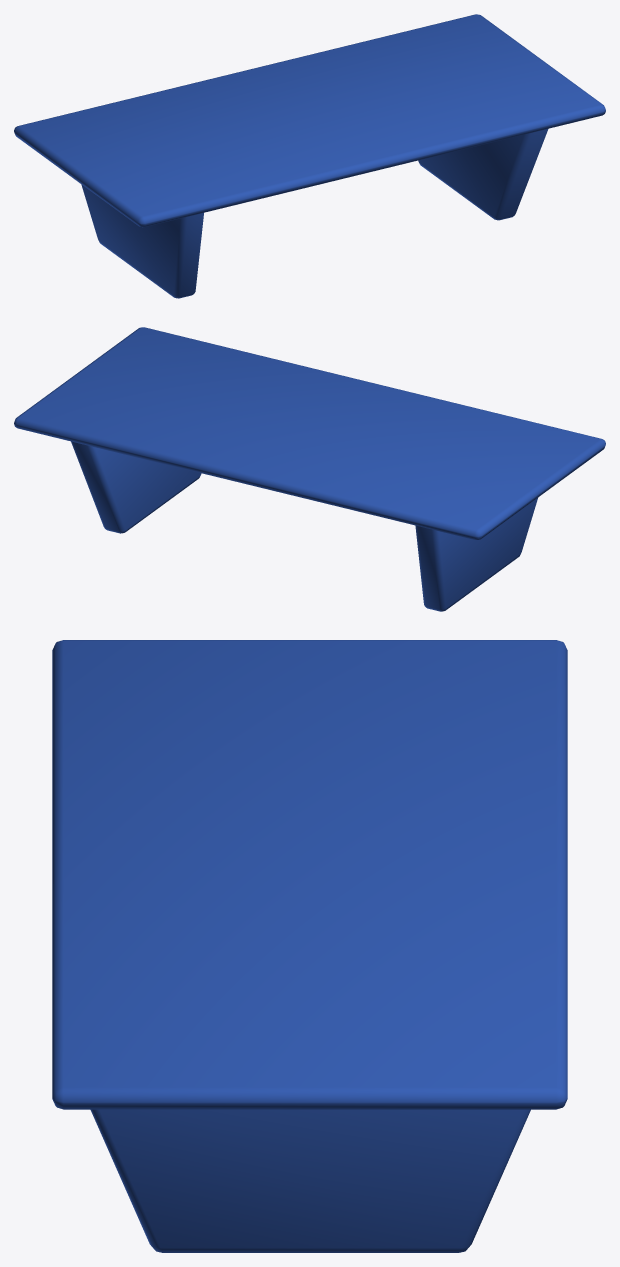
File: MeetingTable.fbx
3 renders of one model, top to bottom at view 1: azimuth 30°, elevation 25°; view 2: azimuth 150°, elevation 25°; view 3: azimuth 270°, elevation 25°, orthographic. The views are drawn at different scales.
Visible parts, largest first — view 1: meetingtable; view 2: meetingtable; view 3: meetingtable.
Part boxes in pixels (bbox=[...]): meetingtable: bbox=[14, 14, 605, 298]; meetingtable: bbox=[14, 327, 605, 611]; meetingtable: bbox=[52, 640, 567, 1252].
Size of the model in its own units: 466 by 109 by 222.
